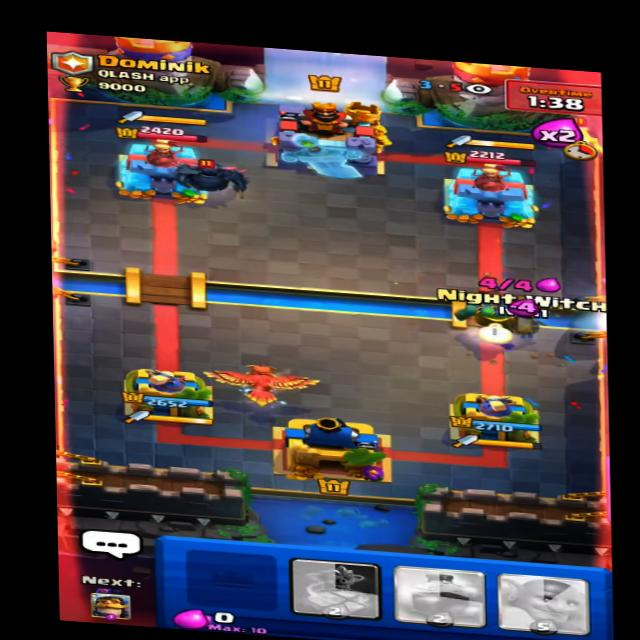pekka: (170, 144, 256, 198)
